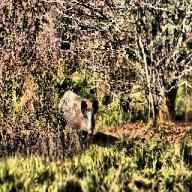boar: (57, 89, 99, 148)
